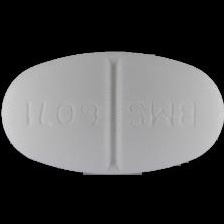0087-6071: (0, 0, 224, 224)
